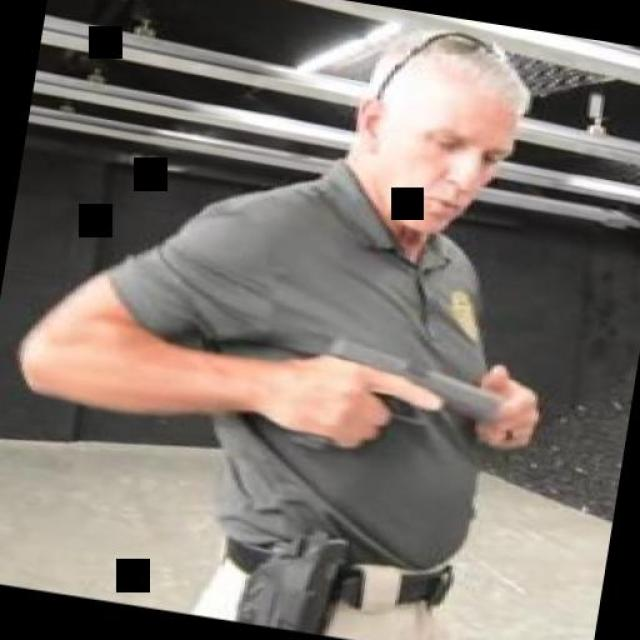gun: (284, 323, 515, 472)
